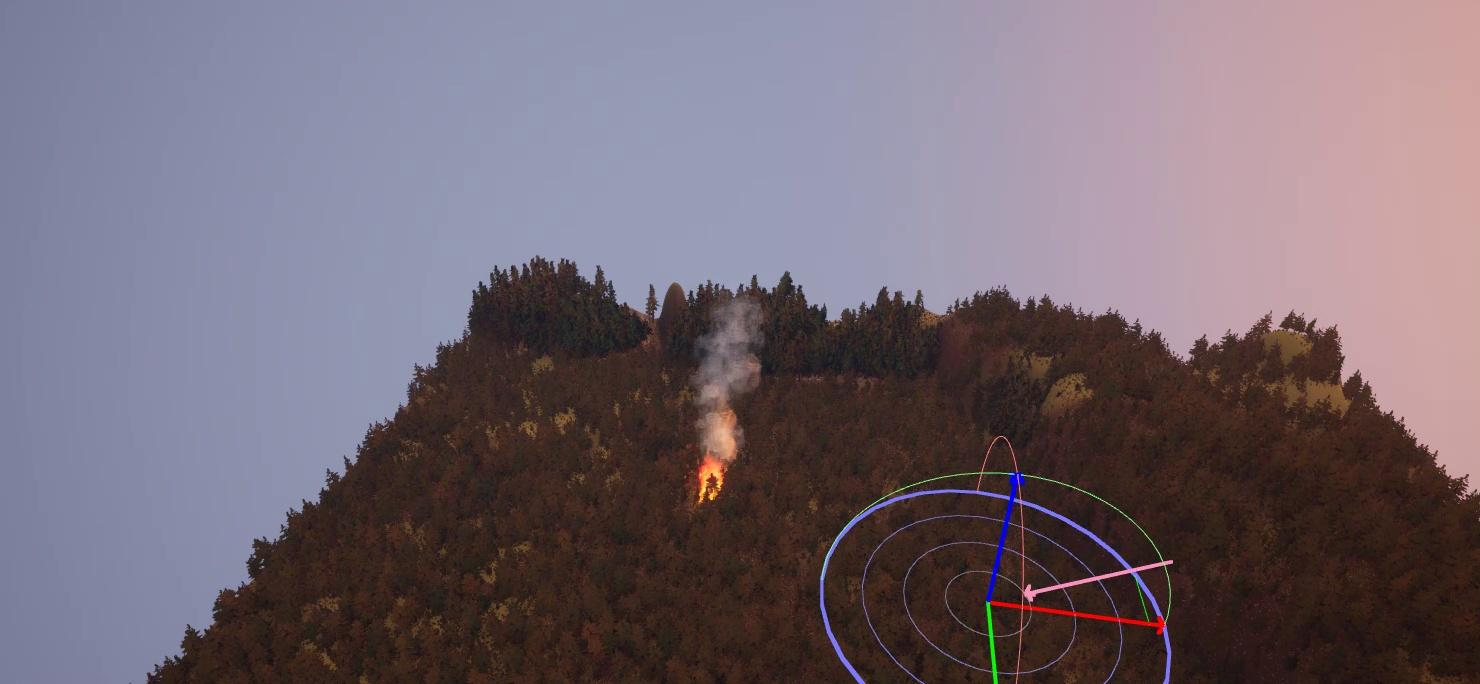fire: (695, 455, 729, 511)
smoke: (690, 301, 767, 460)
